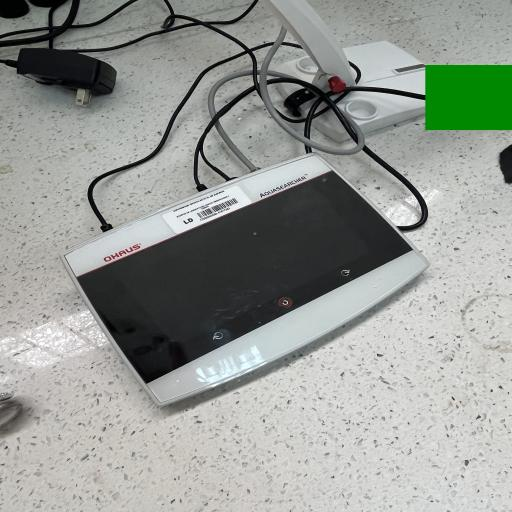Phmetro_Ohaus: (50, 148, 442, 416)
